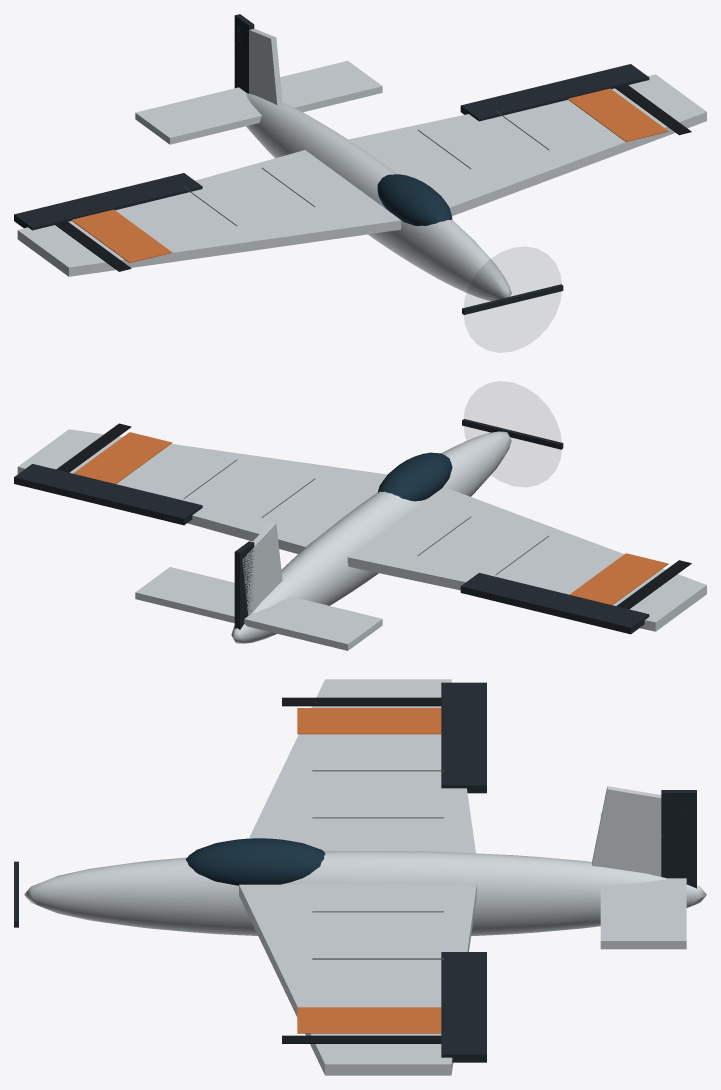
The model's file is v3-rc-cessna.glb.
3 renders of one model, top to bottom at view 1: azimuth 30°, elevation 25°; view 2: azimuth 150°, elevation 25°; view 3: azimuth 270°, elevation 25°, orthographic. The views are drawn at different scales.
Visible parts, largest first — view 1: surface-detail (×2), elevator, prop-0, wing-identification-stripe (×2), aileron-right, aileron-left, drone-rc-cessna, rudder; view 2: surface-detail (×2), elevator, prop-0, wing-identification-stripe (×2), aileron-right, aileron-left, drone-rc-cessna, rudder; view 3: surface-detail (×3), wing-identification-stripe (×2), elevator, drone-rc-cessna, aileron-left, aileron-right, rudder.
Part boxes in pixels (box(x1,y1,x2,y2)): surface-detail (×2): box(17, 27, 706, 301); elevator: box(135, 61, 382, 144); prop-0: box(462, 247, 563, 352); wing-identification-stripe (×2): box(71, 88, 668, 262); aileron-right: box(14, 173, 202, 230); aileron-left: box(460, 64, 649, 121); drone-rc-cessna: box(377, 174, 452, 225); rudder: box(234, 14, 254, 93); surface-detail (×2): box(17, 423, 706, 643); elevator: box(135, 567, 382, 650); prop-0: box(462, 381, 563, 486); wing-identification-stripe (×2): box(73, 432, 668, 605); aileron-right: box(460, 573, 649, 634); aileron-left: box(14, 464, 202, 525); drone-rc-cessna: box(377, 452, 452, 501); rudder: box(234, 541, 254, 629); surface-detail (×3): box(24, 679, 706, 1075); wing-identification-stripe (×2): box(297, 708, 441, 1033); elevator: box(600, 812, 686, 949); drone-rc-cessna: box(185, 838, 325, 885); aileron-left: box(441, 952, 486, 1062); aileron-right: box(441, 682, 486, 793); rudder: box(661, 790, 696, 888).
Size of the model in its own units: 1.8 by 0.3733 by 1.37.
